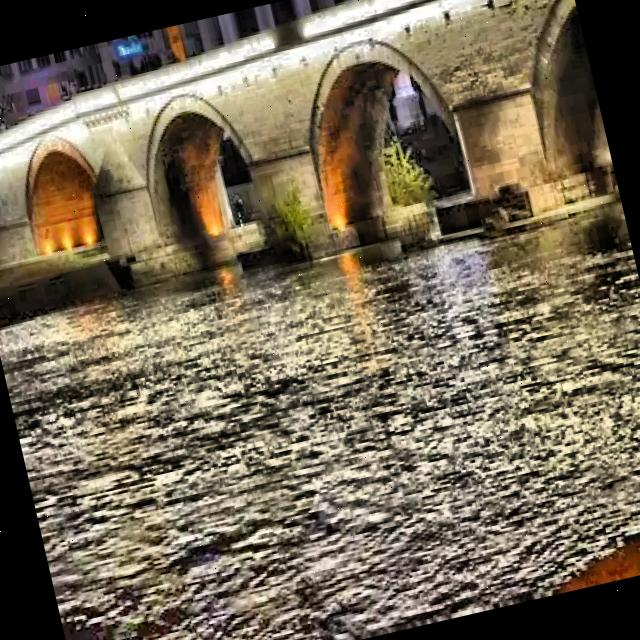stone bridge: (0, 0, 622, 351)
